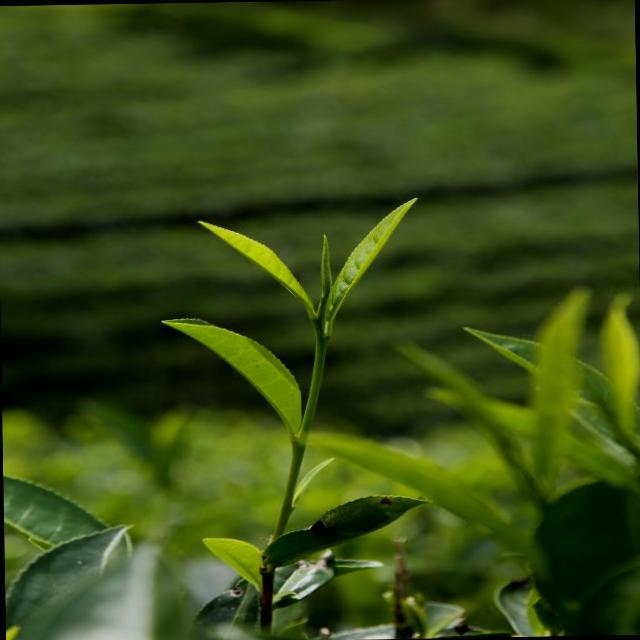Stem: (309, 349, 326, 390)
